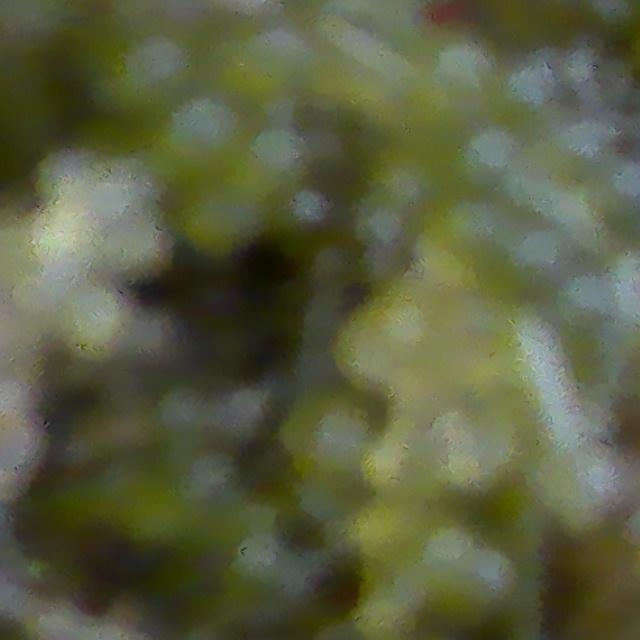SeaGrape: (102, 21, 206, 120), (154, 88, 252, 185), (281, 391, 379, 485), (445, 120, 522, 197), (493, 53, 562, 122)
